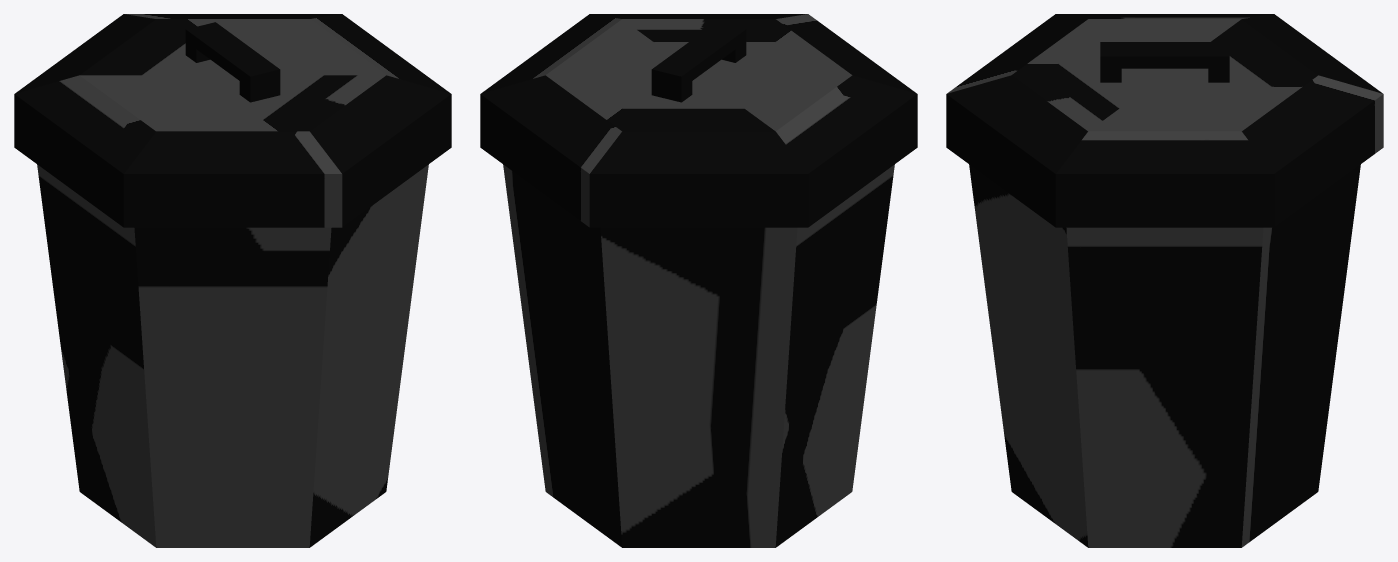
Rendered from fbGarbage.fbx.
3 renders of one model, left to right at view 1: azimuth 30°, elevation 25°; view 2: azimuth 150°, elevation 25°; view 3: azimuth 270°, elevation 25°, orthographic.
Parts seen in each view (by area): view 1: Cylinder.001; view 2: Cylinder.001; view 3: Cylinder.001.
Boxes of the visible parts, box(x1,y1,x2,y2) form: Cylinder.001: box(14, 14, 451, 547); Cylinder.001: box(480, 14, 917, 547); Cylinder.001: box(946, 14, 1383, 547).
Bounding box in the file's own units: 83.81 × 108 × 96.77.
